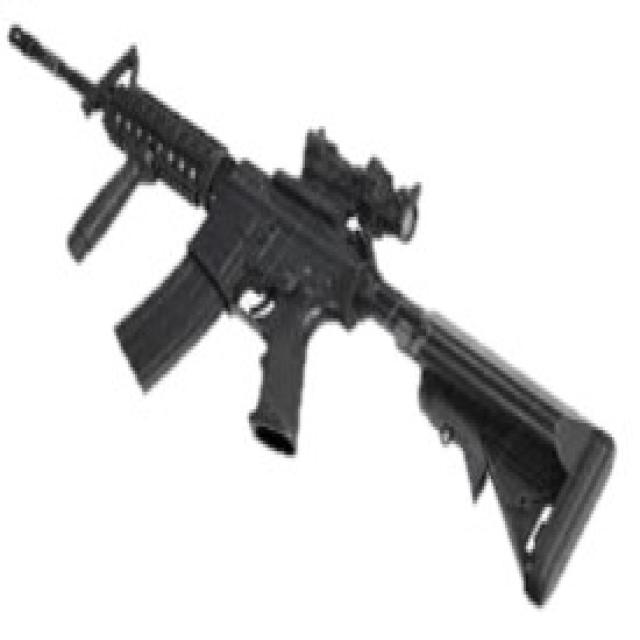rifle: (2, 11, 620, 614)
